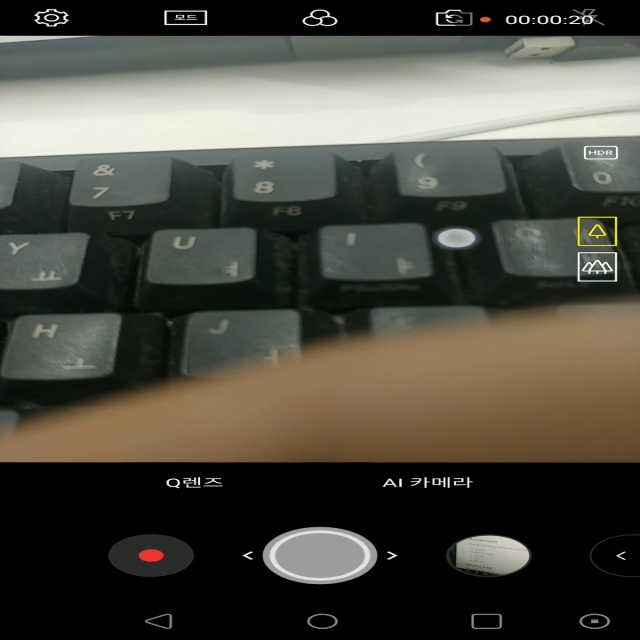Cursor: (434, 227, 479, 249)
